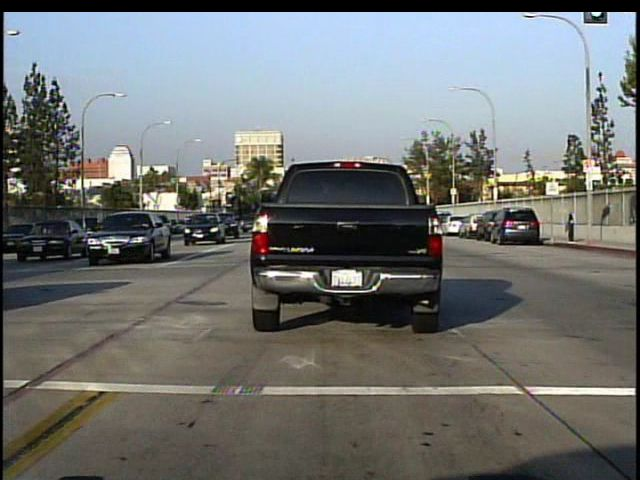car: (244, 158, 441, 332), (87, 211, 161, 267), (13, 216, 85, 259), (491, 203, 544, 247), (180, 210, 224, 246)
